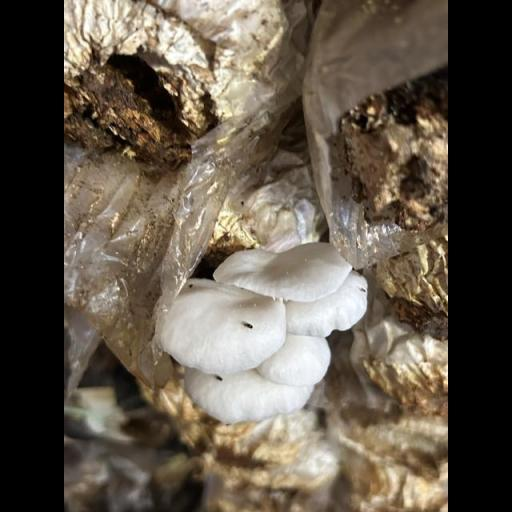White Oyster Mushroom: (161, 240, 366, 419)
